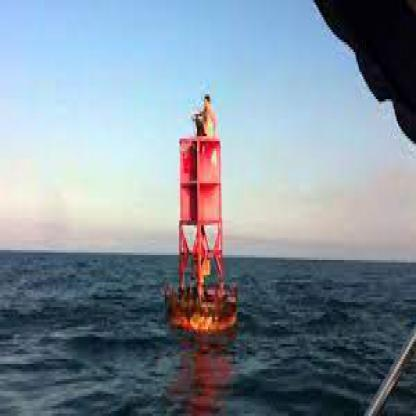buoy: (166, 81, 243, 346)
